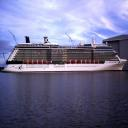cruises: (2, 36, 128, 75)
